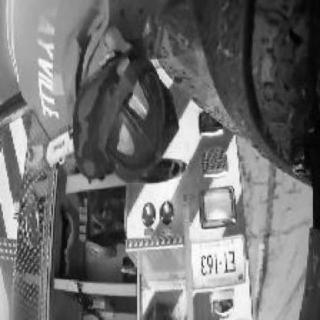other: (3, 122, 23, 318)
